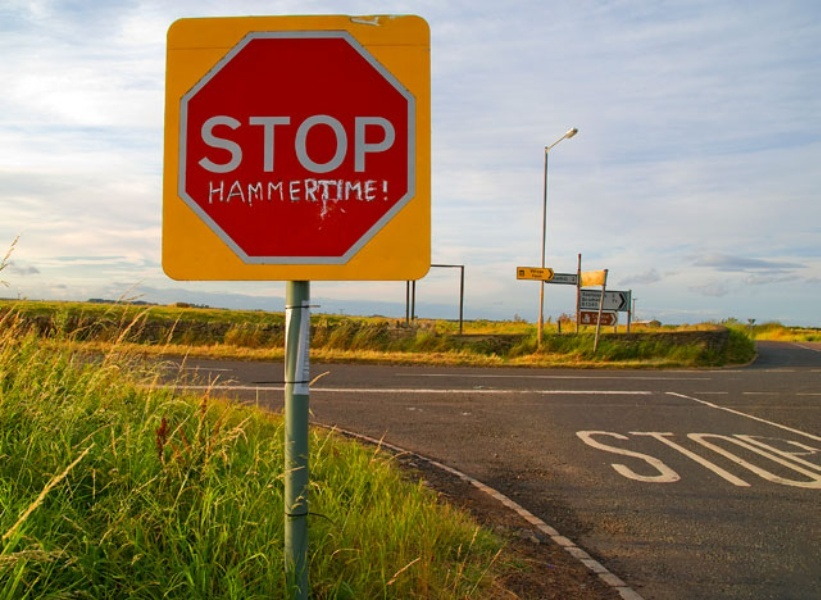text: (577, 429, 592, 497), (593, 429, 608, 497), (609, 429, 624, 497), (625, 429, 640, 497), (641, 429, 656, 497), (657, 429, 672, 497), (673, 429, 688, 497), (689, 429, 704, 497), (705, 429, 720, 497), (721, 429, 736, 497), (737, 429, 752, 497), (753, 429, 768, 497), (769, 429, 784, 497), (785, 429, 800, 497), (801, 429, 816, 497), (209, 115, 224, 175), (225, 115, 240, 175), (241, 115, 256, 175), (257, 115, 272, 175), (273, 115, 288, 175), (289, 115, 304, 175), (305, 115, 320, 175), (321, 115, 336, 175), (337, 115, 352, 175), (353, 115, 368, 175), (369, 115, 384, 175), (385, 115, 397, 175), (199, 115, 208, 175), (569, 429, 576, 497), (209, 179, 224, 204), (225, 179, 240, 204), (241, 179, 256, 204), (257, 179, 272, 204), (273, 179, 288, 204), (289, 179, 304, 204), (305, 179, 320, 204), (321, 179, 336, 204), (337, 179, 352, 204), (353, 179, 368, 204), (369, 179, 384, 204), (817, 429, 821, 497), (593, 318, 608, 325), (529, 268, 544, 274), (593, 312, 608, 318), (593, 292, 607, 298), (385, 179, 388, 204), (532, 274, 544, 279), (582, 302, 592, 308), (582, 297, 592, 303), (593, 297, 603, 303), (582, 292, 592, 298), (561, 275, 569, 281), (593, 302, 601, 308), (553, 275, 560, 281), (207, 179, 208, 204), (609, 312, 611, 318)
